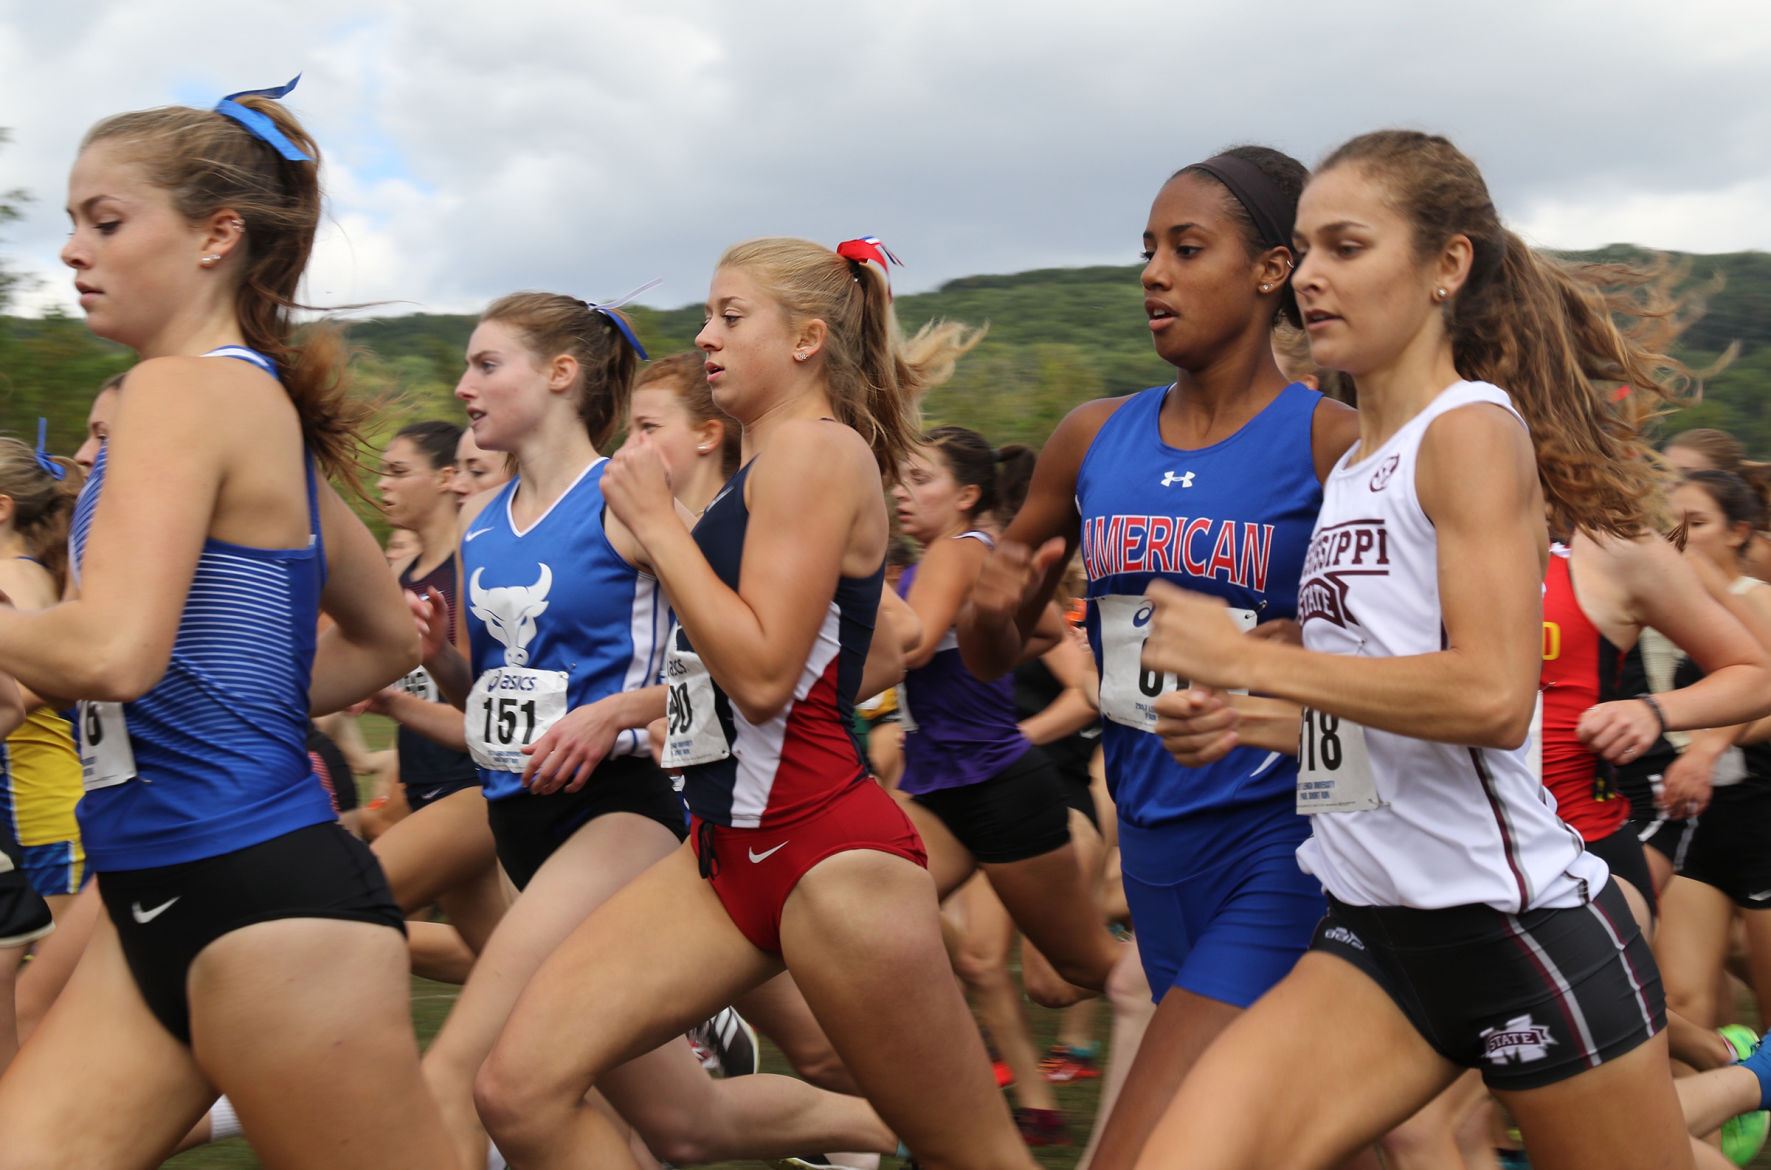runner: (7, 104, 444, 1170), (975, 144, 1389, 1170), (1286, 123, 1686, 1170), (570, 238, 1002, 1170), (415, 291, 697, 1022), (887, 420, 1118, 1002)
